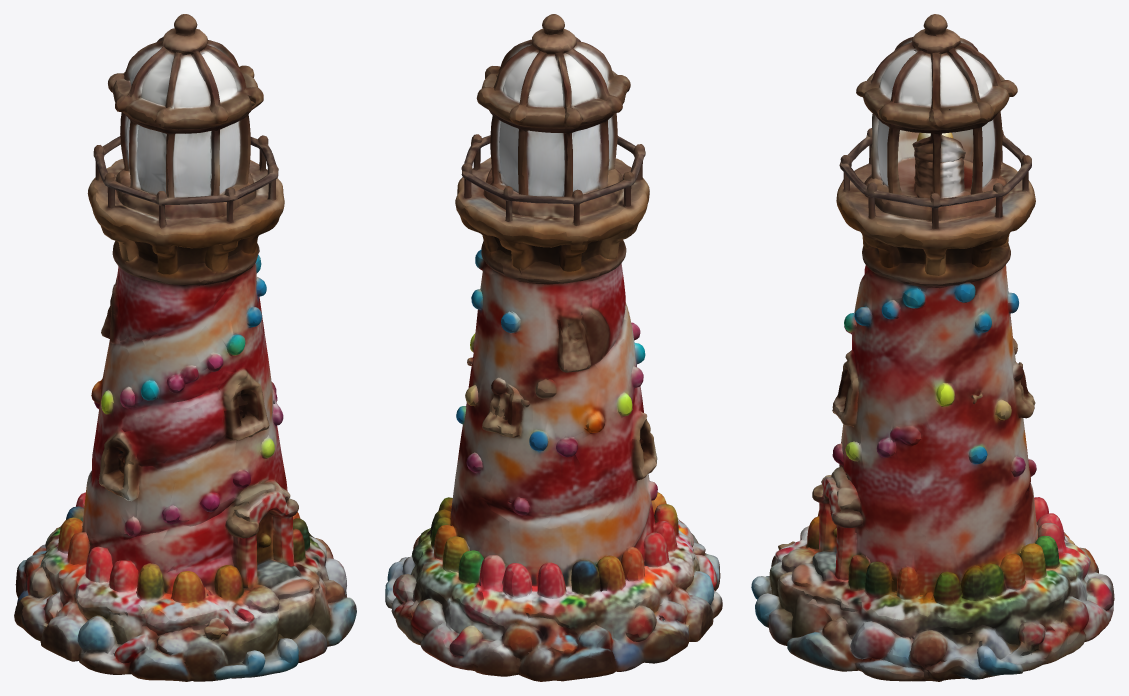
Rendered from lighthouse-candy.glb.
The picture shows the model from 3 angles, left to right: view 1: azimuth 30°, elevation 25°; view 2: azimuth 150°, elevation 25°; view 3: azimuth 270°, elevation 25°; orthographic projection.
Parts seen in each view (by area): view 1: world; view 2: world; view 3: world.
Boxes of the visible parts, <box> form: world: <box>14,14,356,681</box>; world: <box>385,14,722,681</box>; world: <box>751,14,1114,681</box>.
Bounding box in the file's own units: 0.1629 × 0.32 × 0.1754.
Materials: 1 (1 with a texture image).
